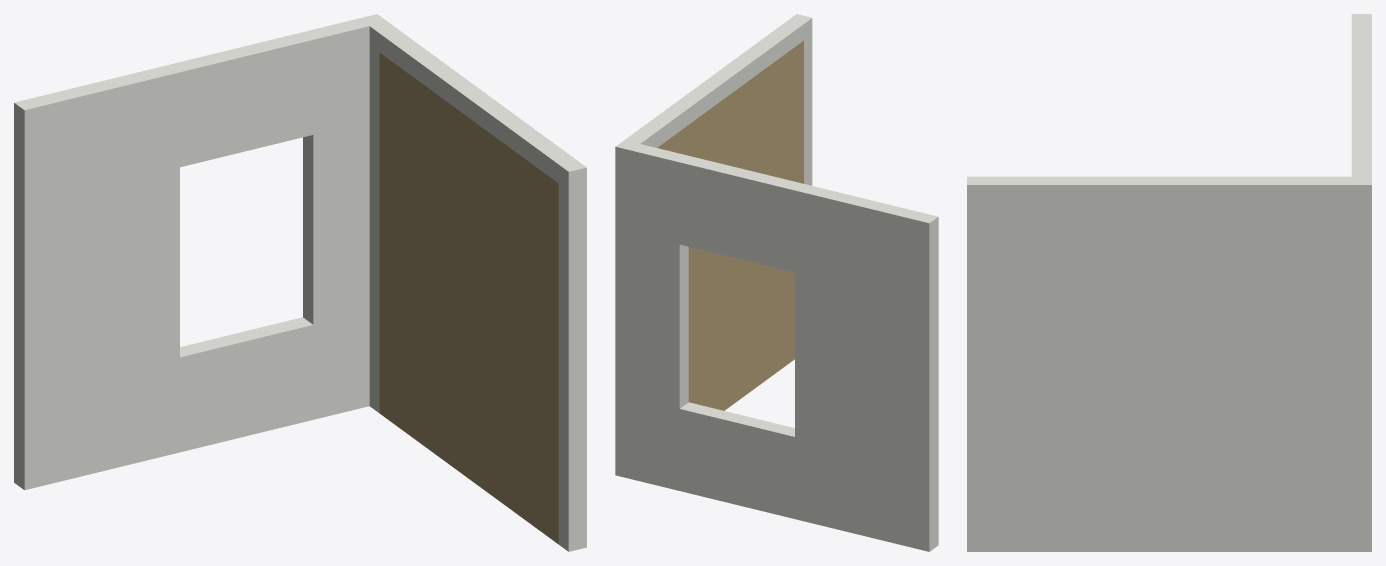
Rendered from Wal_1_11.fbx.
3 renders of one model, left to right at view 1: azimuth 30°, elevation 25°; view 2: azimuth 150°, elevation 25°; view 3: azimuth 270°, elevation 25°, orthographic. The views are drawn at different scales.
Parts seen in each view (by area): view 1: polySurface1872; view 2: polySurface1872; view 3: polySurface1872.
Boxes of the visible parts, left/top/right/bottom form: polySurface1872: left=14, top=14, right=586, bottom=551; polySurface1872: left=615, top=14, right=938, bottom=551; polySurface1872: left=967, top=14, right=1371, bottom=551.
Bounding box in the file's own units: 4 × 4 × 4.
1 material, 1 textured.
